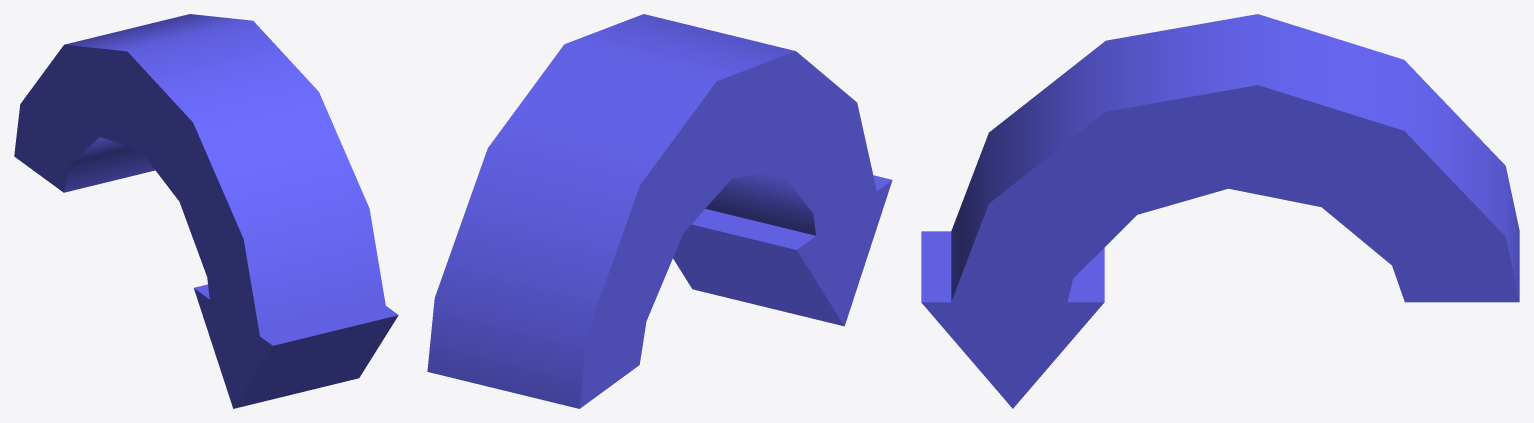
Rendered from original-12.obj.
The picture shows the model from 3 angles, left to right: view 1: azimuth 30°, elevation 25°; view 2: azimuth 150°, elevation 25°; view 3: azimuth 270°, elevation 25°; orthographic projection. The views are drawn at different scales.
Visible parts, largest first — view 1: mesh27/mesh27-geometry#mesh27-geometry; view 2: mesh27/mesh27-geometry#mesh27-geometry; view 3: mesh27/mesh27-geometry#mesh27-geometry.
Boxes of the visible parts, x1,y1,x2,y2 form: mesh27/mesh27-geometry#mesh27-geometry: [14, 14, 398, 408]; mesh27/mesh27-geometry#mesh27-geometry: [427, 14, 892, 408]; mesh27/mesh27-geometry#mesh27-geometry: [921, 14, 1519, 408].
Bounding box in the file's own units: 0.0427 × 0.0907 × 0.1519.
